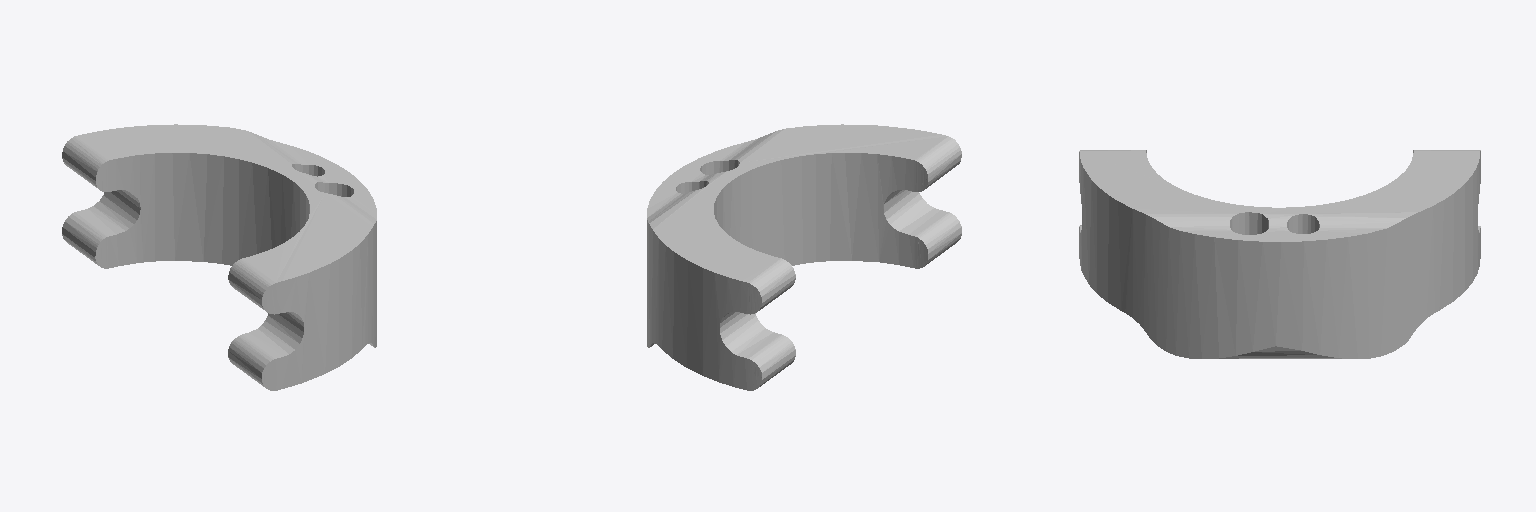
Rendered from seg8.OBJ.
3 renders of one model, left to right at view 1: azimuth 30°, elevation 25°; view 2: azimuth 150°, elevation 25°; view 3: azimuth 270°, elevation 25°, orthographic.
Parts seen in each view (by area): view 1: /ambf/env/seg8_seg8; view 2: /ambf/env/seg8_seg8; view 3: /ambf/env/seg8_seg8.
Boxes of the visible parts, box(x1,y1,x2,y2) form: /ambf/env/seg8_seg8: box(62, 124, 376, 390); /ambf/env/seg8_seg8: box(647, 124, 961, 390); /ambf/env/seg8_seg8: box(1079, 150, 1480, 358).
Bounding box in the file's own units: 0.0033 × 0.0022 × 0.006.